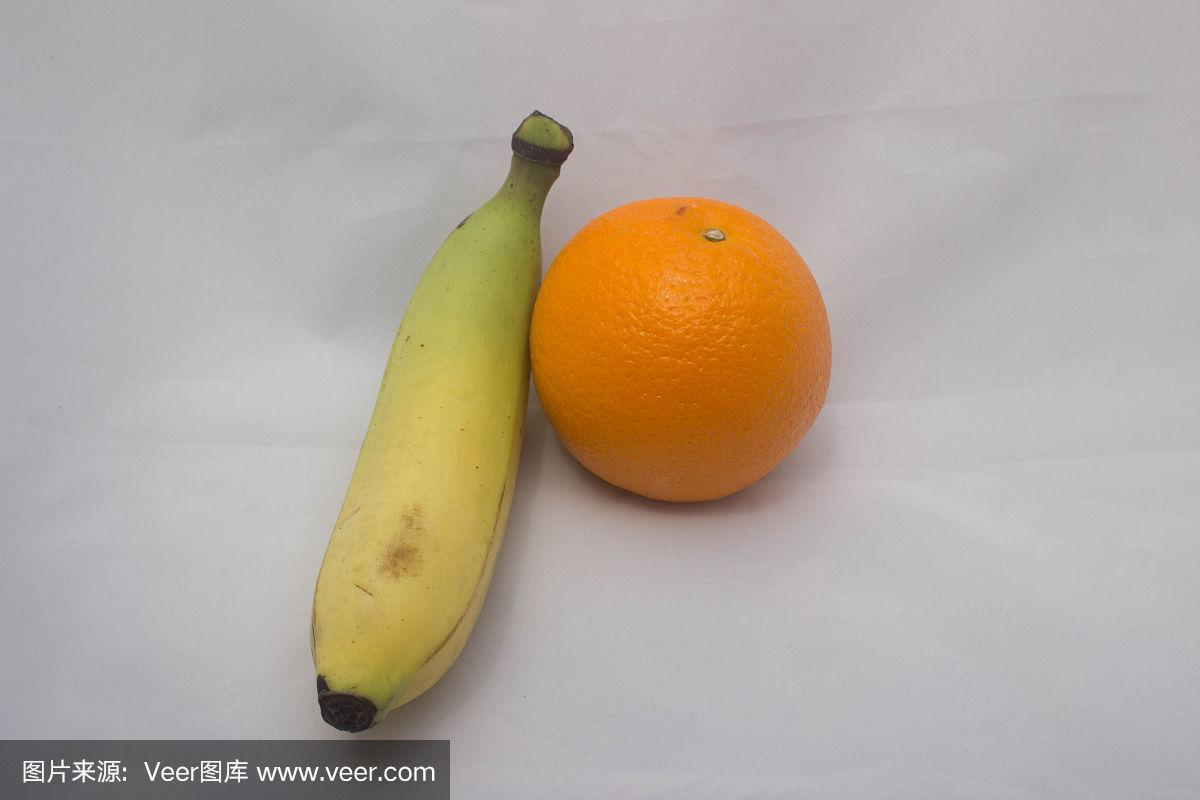banana: (307, 109, 574, 732)
orange: (529, 198, 831, 504)
